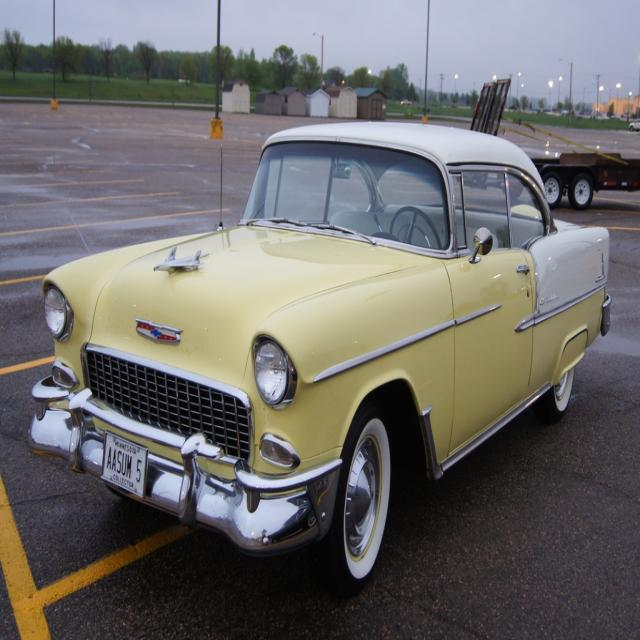car: (23, 123, 608, 588)
